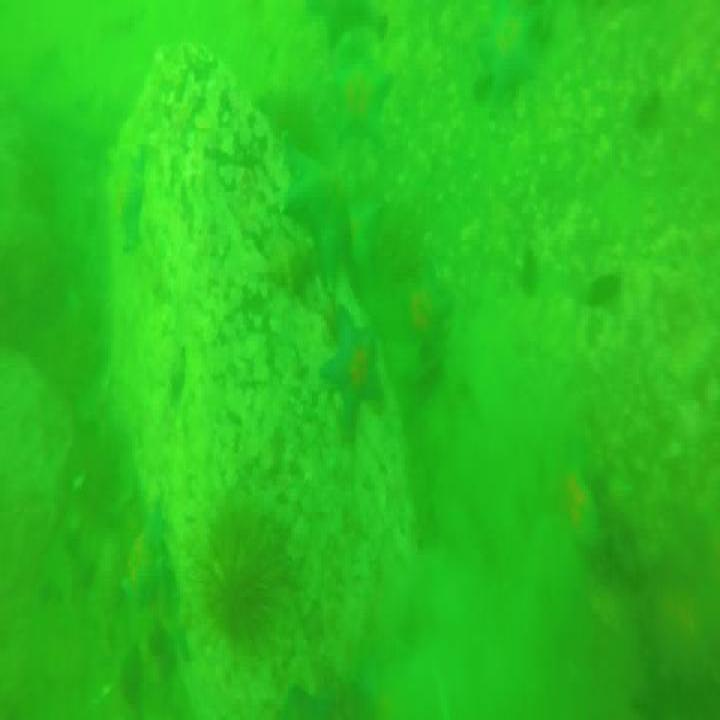echinus: (203, 512, 285, 654)
starfish: (282, 153, 351, 302), (320, 309, 383, 439), (473, 18, 541, 98)
